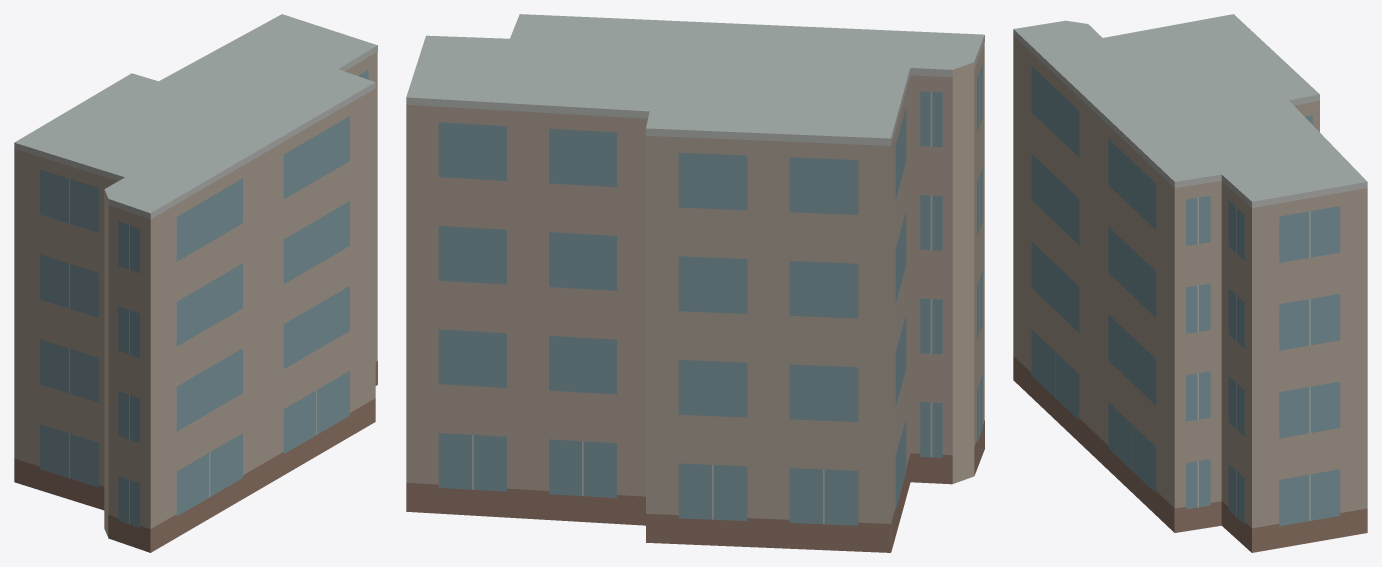
The model's file is survey-upis-32494869.glb.
3 renders of one model, left to right at view 1: azimuth 30°, elevation 25°; view 2: azimuth 150°, elevation 25°; view 3: azimuth 270°, elevation 25°, orthographic. The views are drawn at different scales.
Visible parts, largest first — view 1: survey-upis-32494869.tmp; view 2: survey-upis-32494869.tmp; view 3: survey-upis-32494869.tmp.
Part boxes in pixels (left/top/right/bottom): survey-upis-32494869.tmp: left=14, top=14, right=377, bottom=552; survey-upis-32494869.tmp: left=406, top=14, right=984, bottom=552; survey-upis-32494869.tmp: left=1013, top=14, right=1367, bottom=552.
Size of the model in its own units: 15.73 by 13.7 by 12.54.
